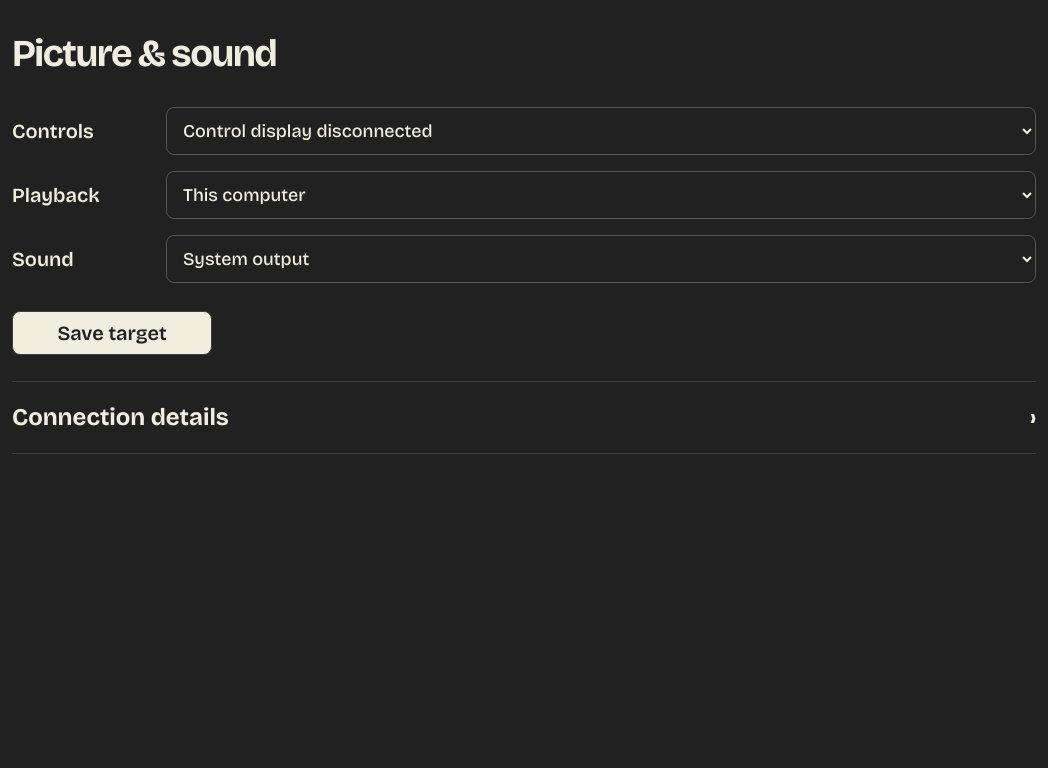
it: saving a desired target never moves playback and failures remain visible
The width and height of the screenshot is (1048, 768).
Select "TV" in the dropdown labelled "Playback" at (601,195), box left=166, top=171, right=1036, bottom=219
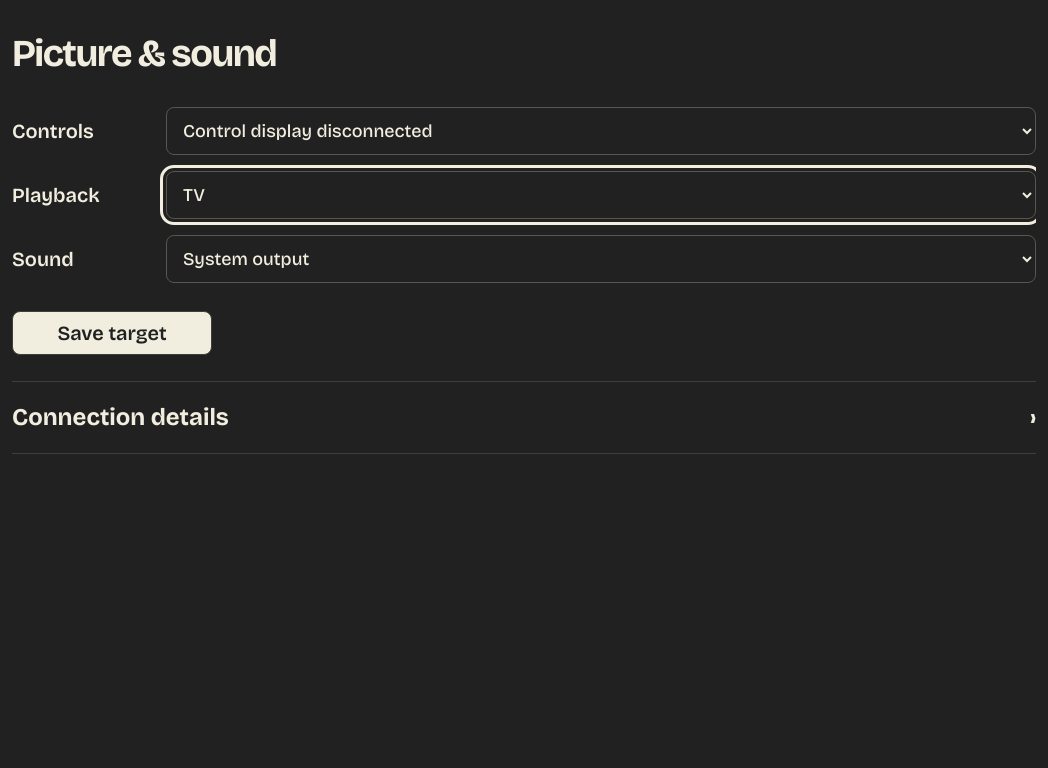
Click the button "Save target" at (112,333), box left=12, top=311, right=212, bottom=355
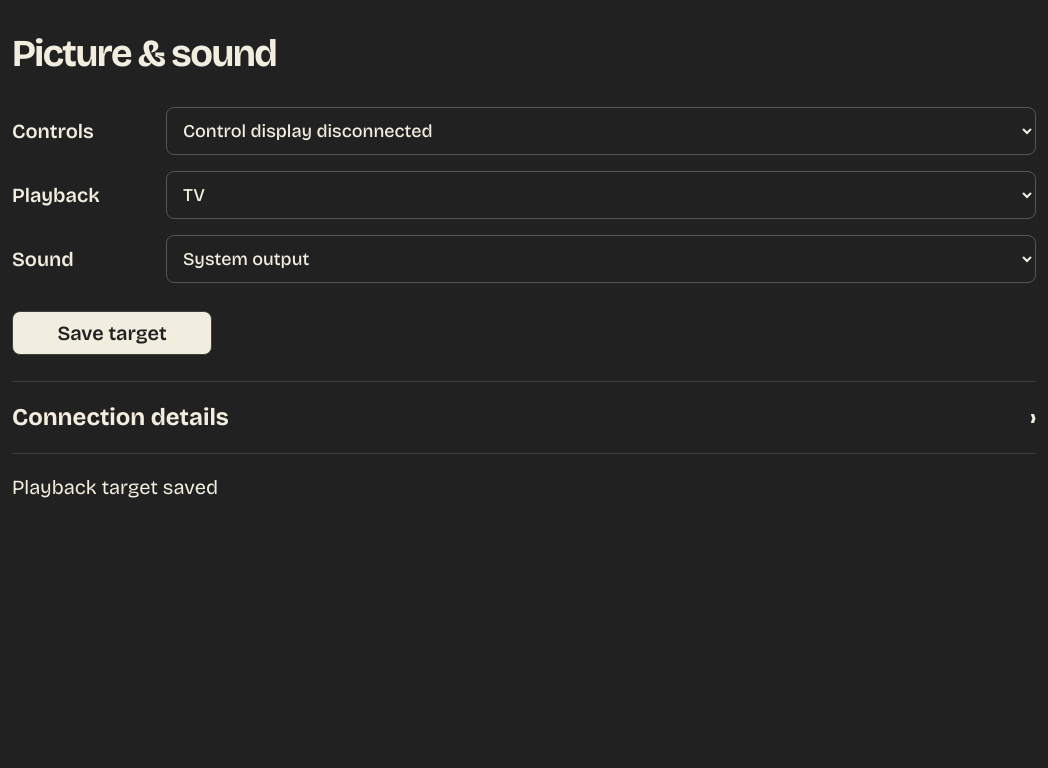
Click the heading "Connection details" at (120,417), box left=12, top=403, right=229, bottom=431
(page scrolled)
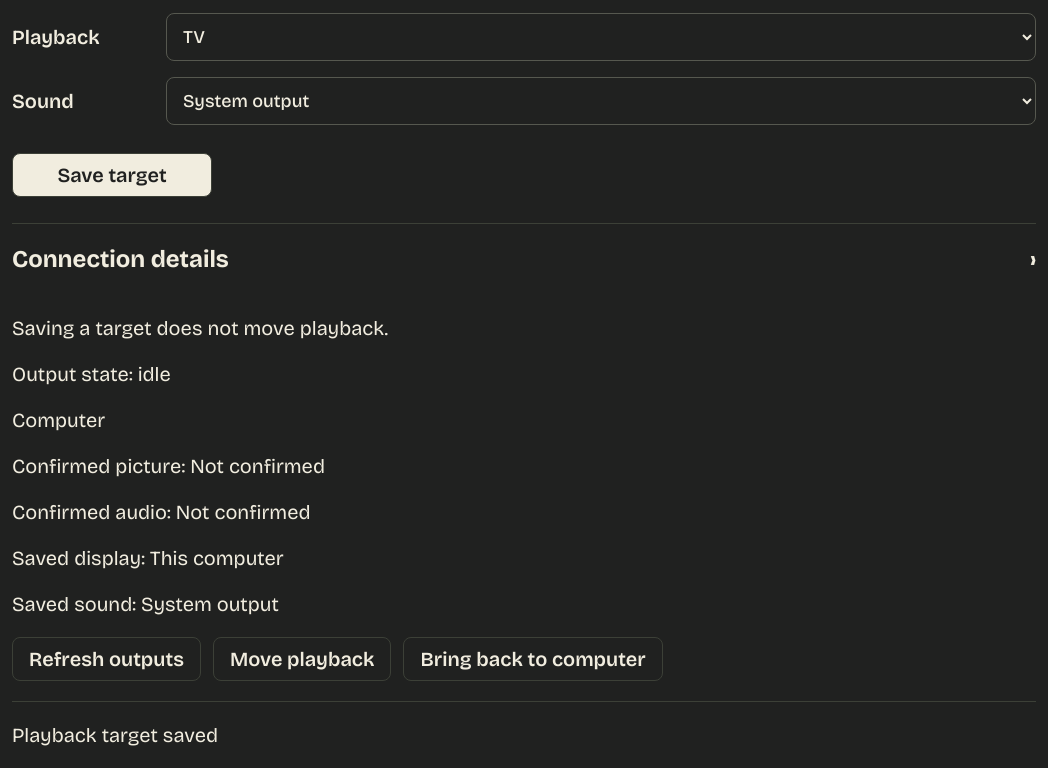
Click the button "Move playback" at (302,659), box left=213, top=637, right=392, bottom=681
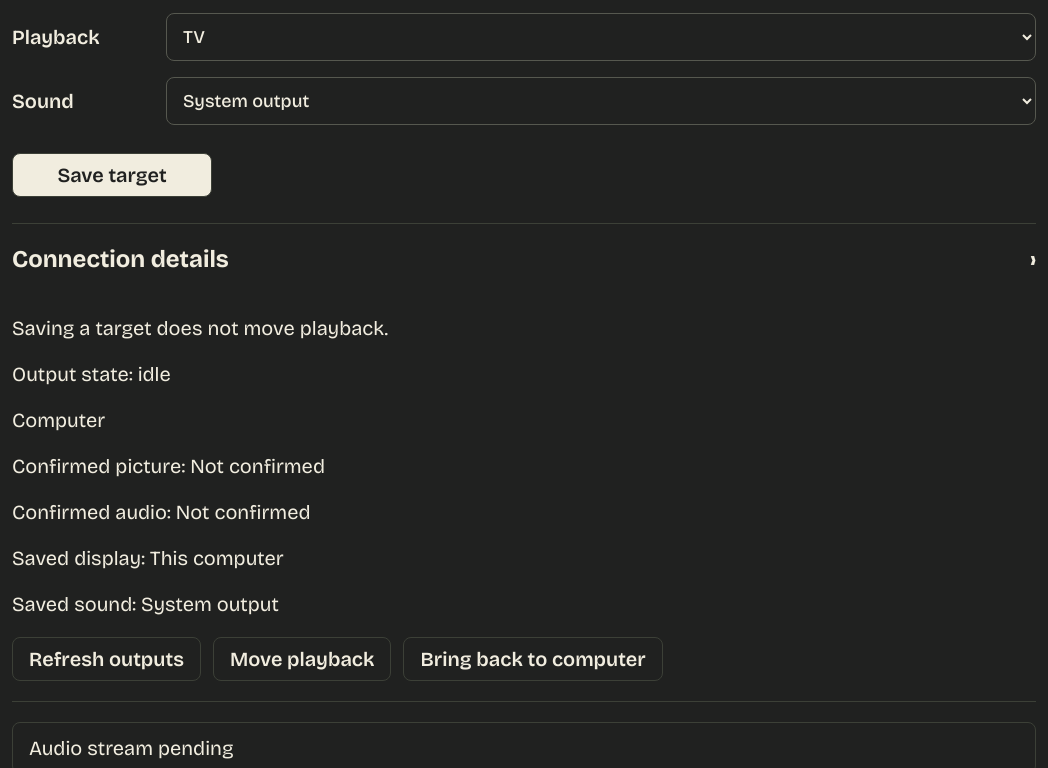
Now the button "Bring back to computer" is enabled, box left=404, top=637, right=663, bottom=681
Now the message reads "Audio stream pending", box left=29, top=736, right=234, bottom=760
